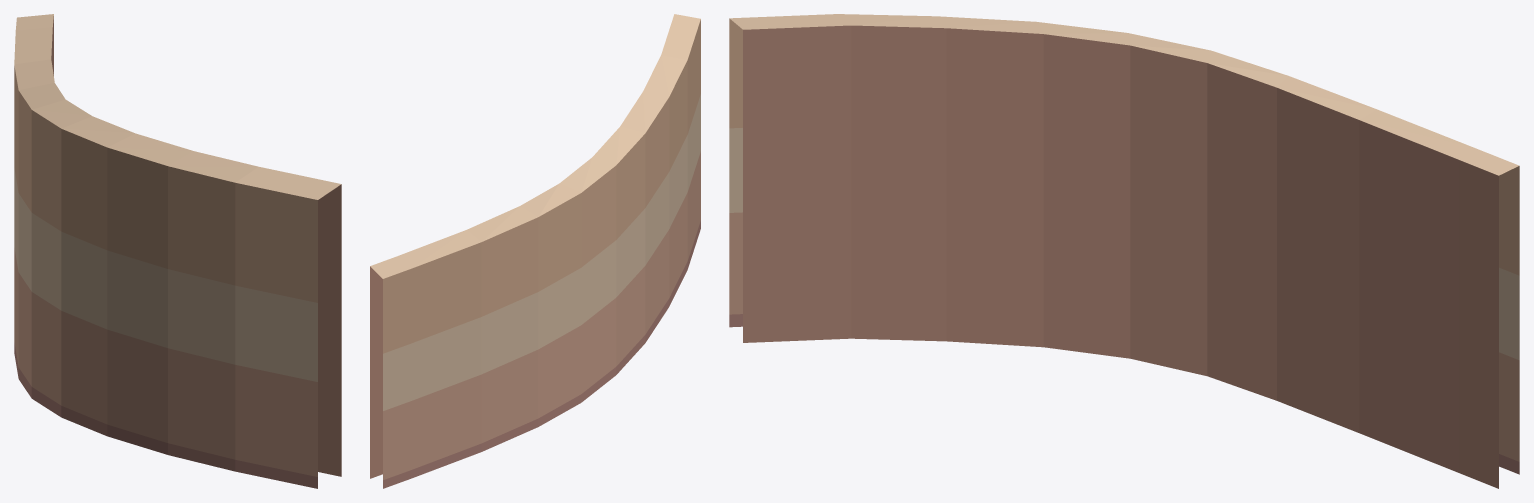
File: pared_derecha_3.glb
3 views of the same model, side by side, from view 1: azimuth 30°, elevation 25°; view 2: azimuth 150°, elevation 25°; view 3: azimuth 270°, elevation 25° (orthographic). The views are drawn at different scales.
Parts seen in each view (by area): view 1: pared_derecha_3; view 2: pared_derecha_3; view 3: pared_derecha_3.
Part boxes in pixels (x1,y1,x2,y2): pared_derecha_3: (14, 14, 341, 488); pared_derecha_3: (370, 14, 700, 488); pared_derecha_3: (729, 14, 1519, 488).
Size of the model in its own units: 4.39 by 10.04 by 16.92.
